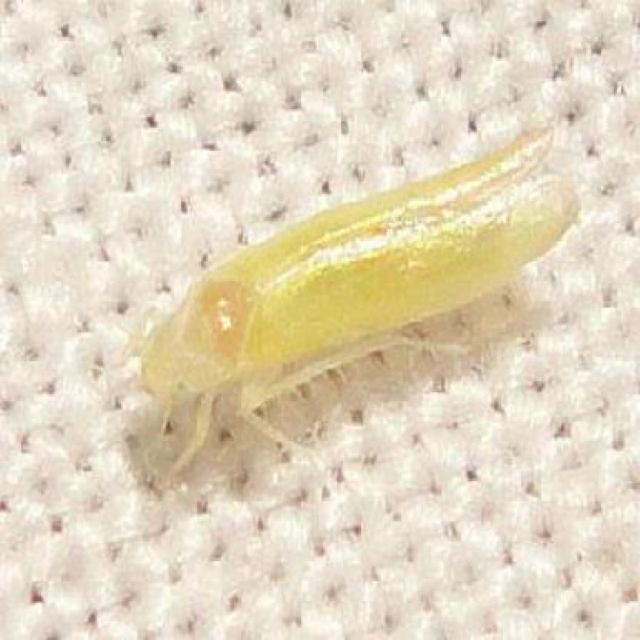green-leafhopper: (143, 121, 578, 475)
